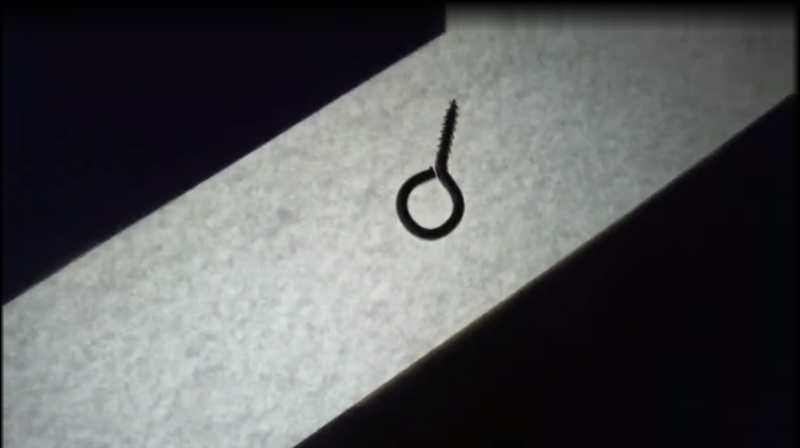O001: (390, 96, 467, 243)
